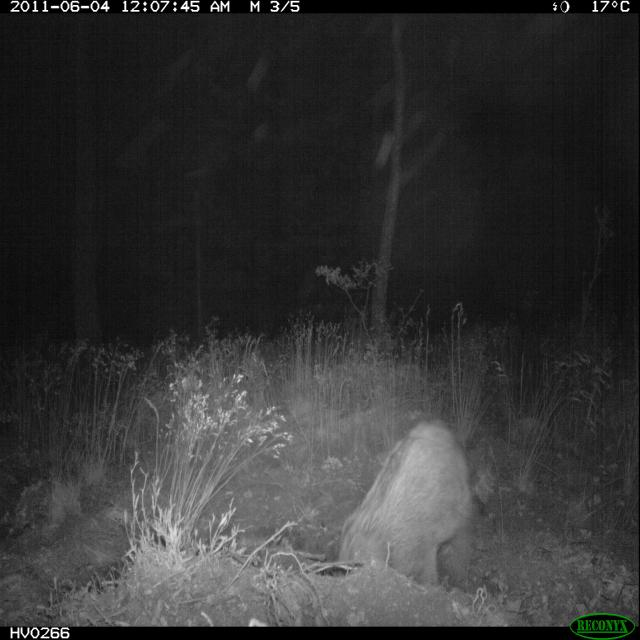boar: (321, 410, 530, 606)
